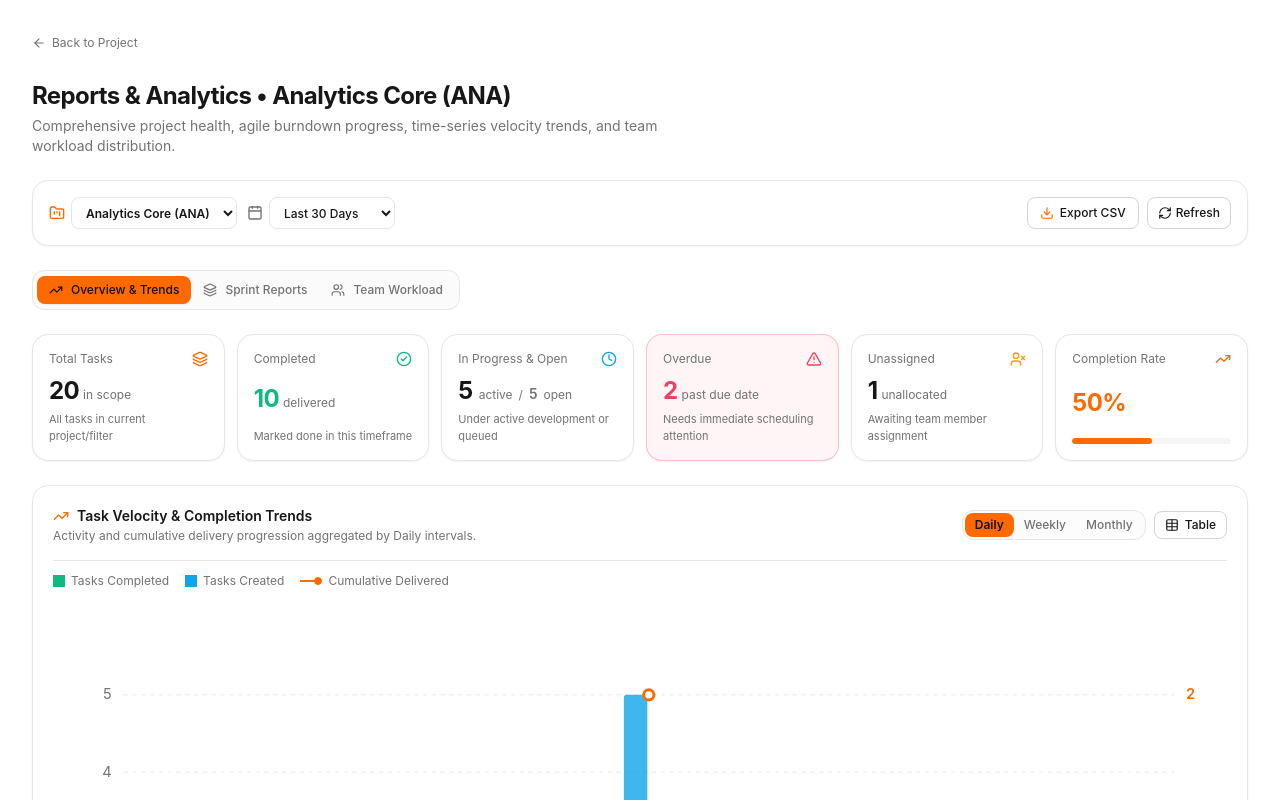
Test: ReportsPage › allows switching between report tabs
Expected: the text "Overview & Trends" is shown, [71, 282, 179, 298]
Switch to Team Workload tab
Click the tab "Team Workload" at (387, 290), box [320, 276, 455, 304]
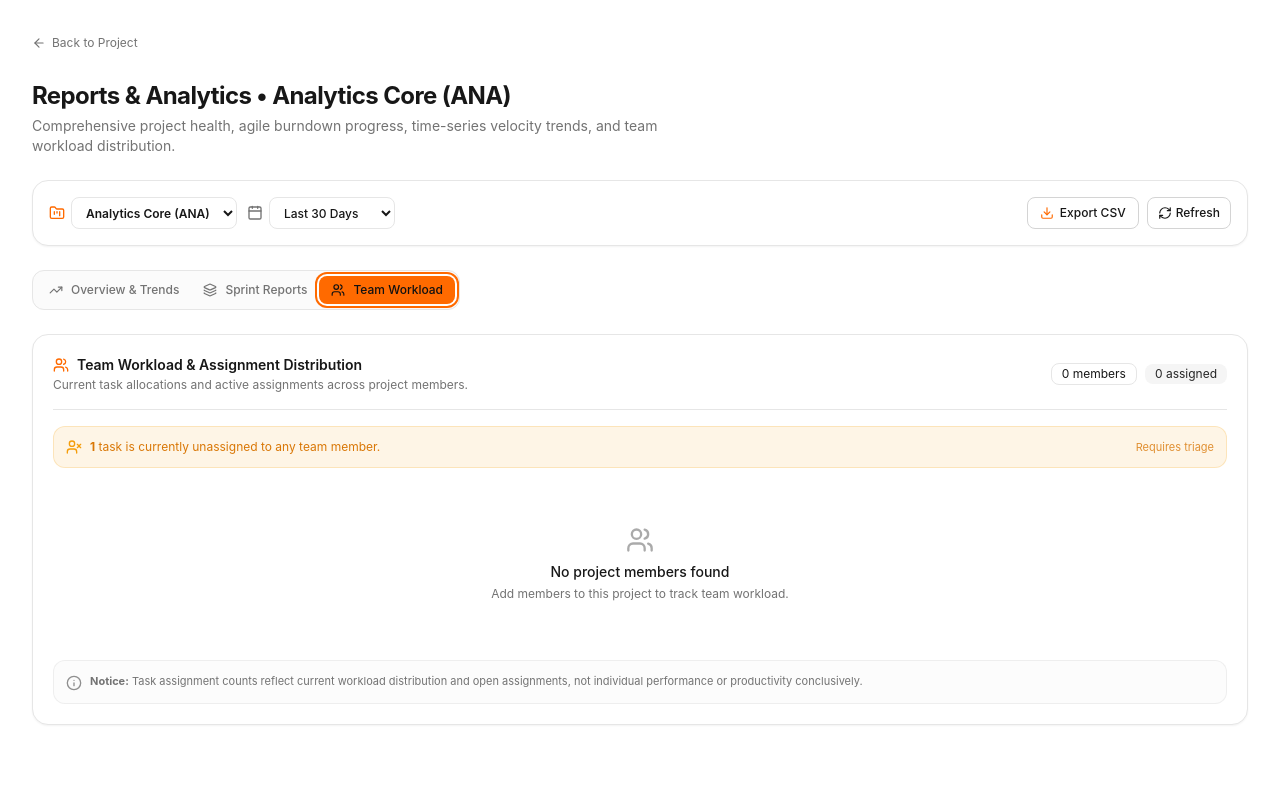
Expected: the element with test id "team-workload-table" is shown, [32, 334, 1248, 725]
Switch to Sprint Reports tab
Click the tab "Sprint Reports" at (255, 290), box [191, 276, 319, 304]
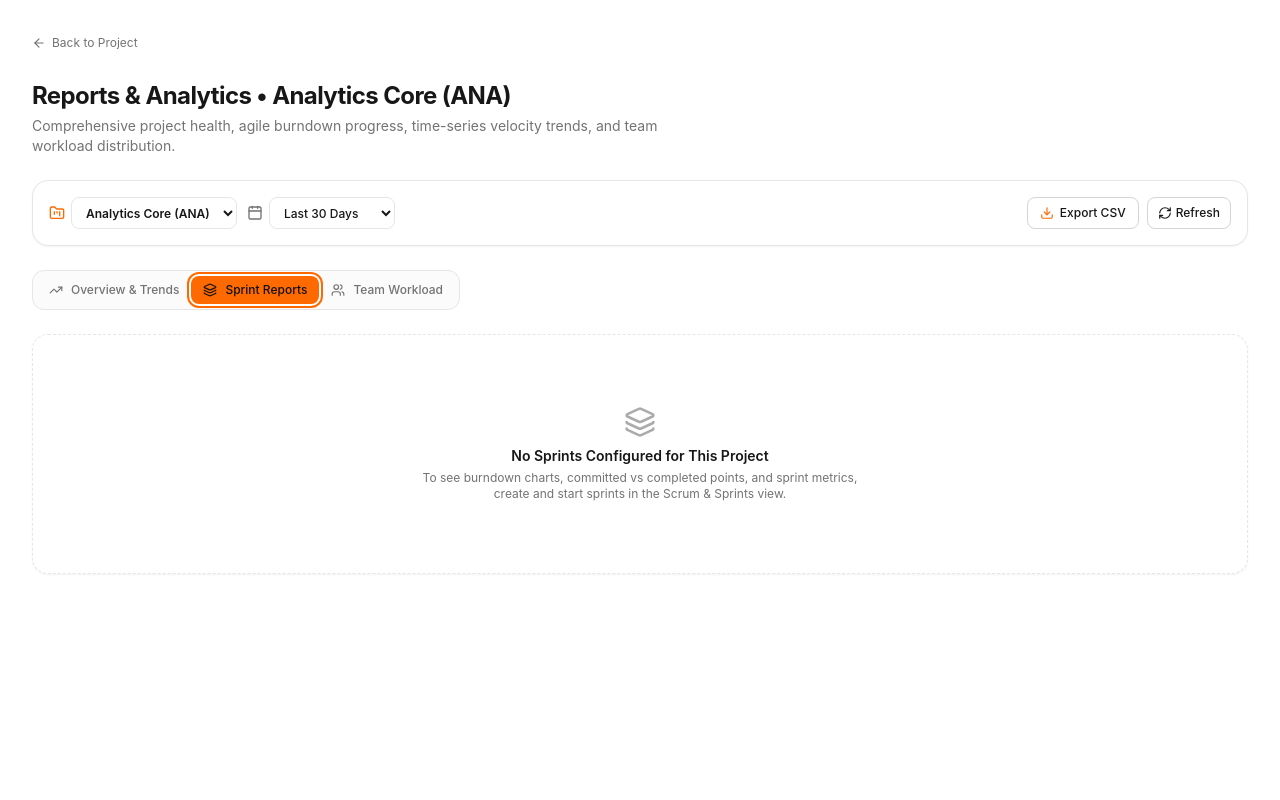
Expected: the element with test id "sprint-reports-empty" is shown, [32, 334, 1248, 574]
